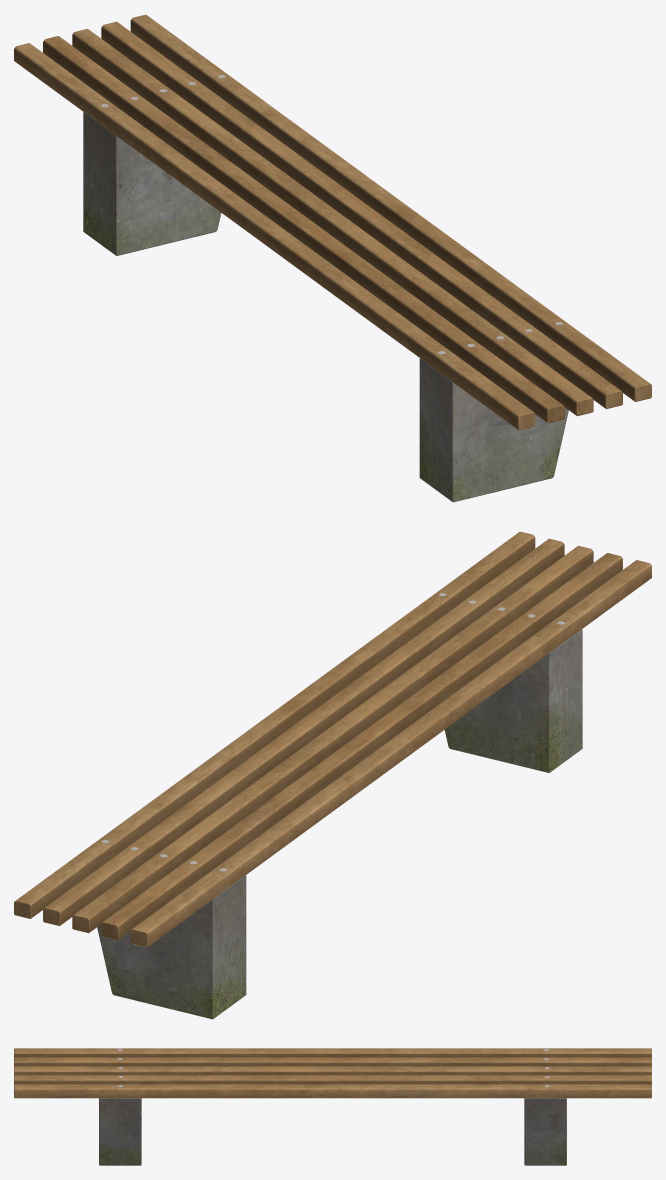
File: outdoor_bench.glb
The picture shows the model from 3 angles, top to bottom: view 1: azimuth 30°, elevation 25°; view 2: azimuth 150°, elevation 25°; view 3: azimuth 270°, elevation 25°; orthographic projection. The views are drawn at different scales.
Visible parts, largest first — view 1: bench_bench_0; view 2: bench_bench_0; view 3: bench_bench_0.
Boxes of the visible parts, x1,y1,x2,y2 form: bench_bench_0: [14, 14, 651, 502]; bench_bench_0: [14, 531, 651, 1019]; bench_bench_0: [14, 1048, 651, 1165].
Size of the model in its own units: 0.2896 by 0.2834 by 1.89.
1 material, 1 textured.
